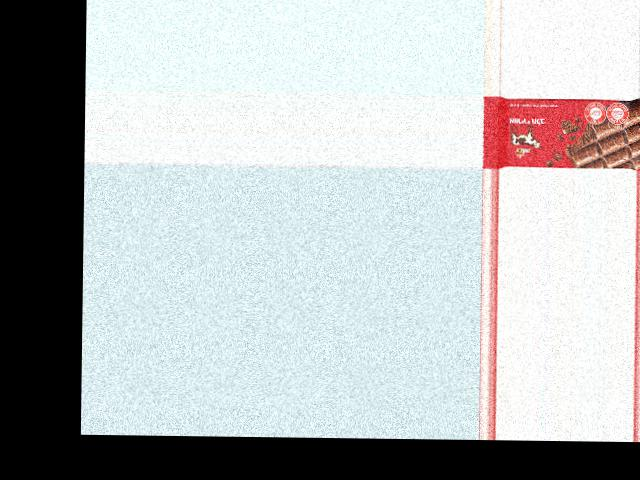chocolate: (484, 95, 640, 170)
